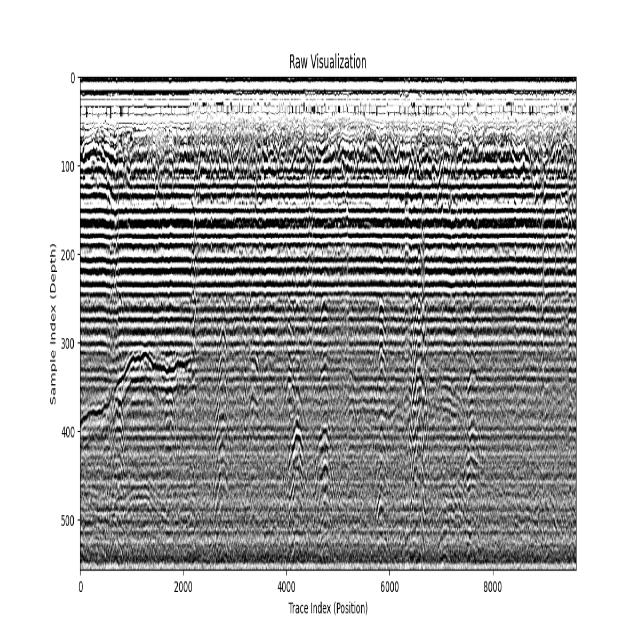anomaly: (82, 339, 203, 451), (410, 292, 428, 558), (109, 480, 168, 536), (466, 310, 480, 530), (317, 310, 330, 545), (376, 299, 387, 559), (290, 413, 306, 549), (218, 339, 228, 529)
